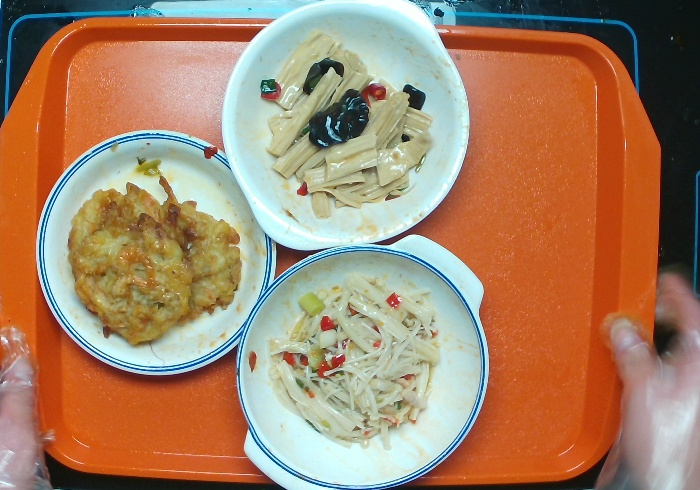HZYJPL-Dai_Er_Bai_Yuan_Wan: (217, 1, 474, 254)
HZYJPL-Lan_Bian_Dai_Er_Wan: (235, 222, 489, 490)
HZYJPL-Lan_Bian_Yuan_Die: (27, 125, 275, 373)
